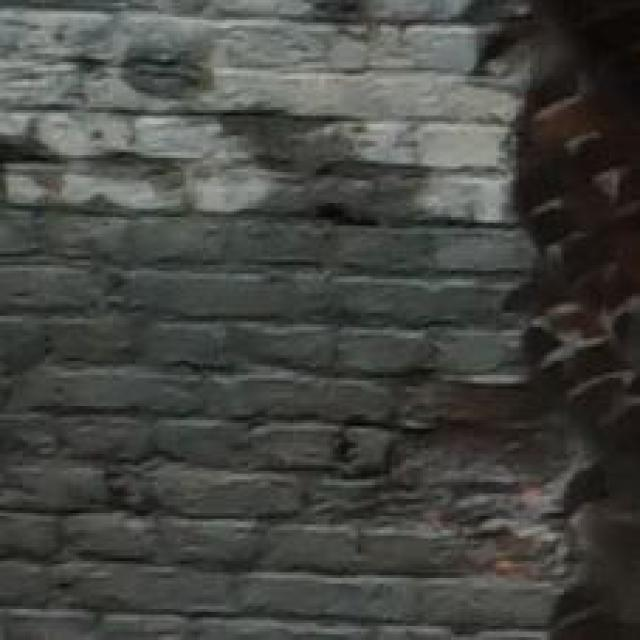Crack: (291, 303, 624, 605)
